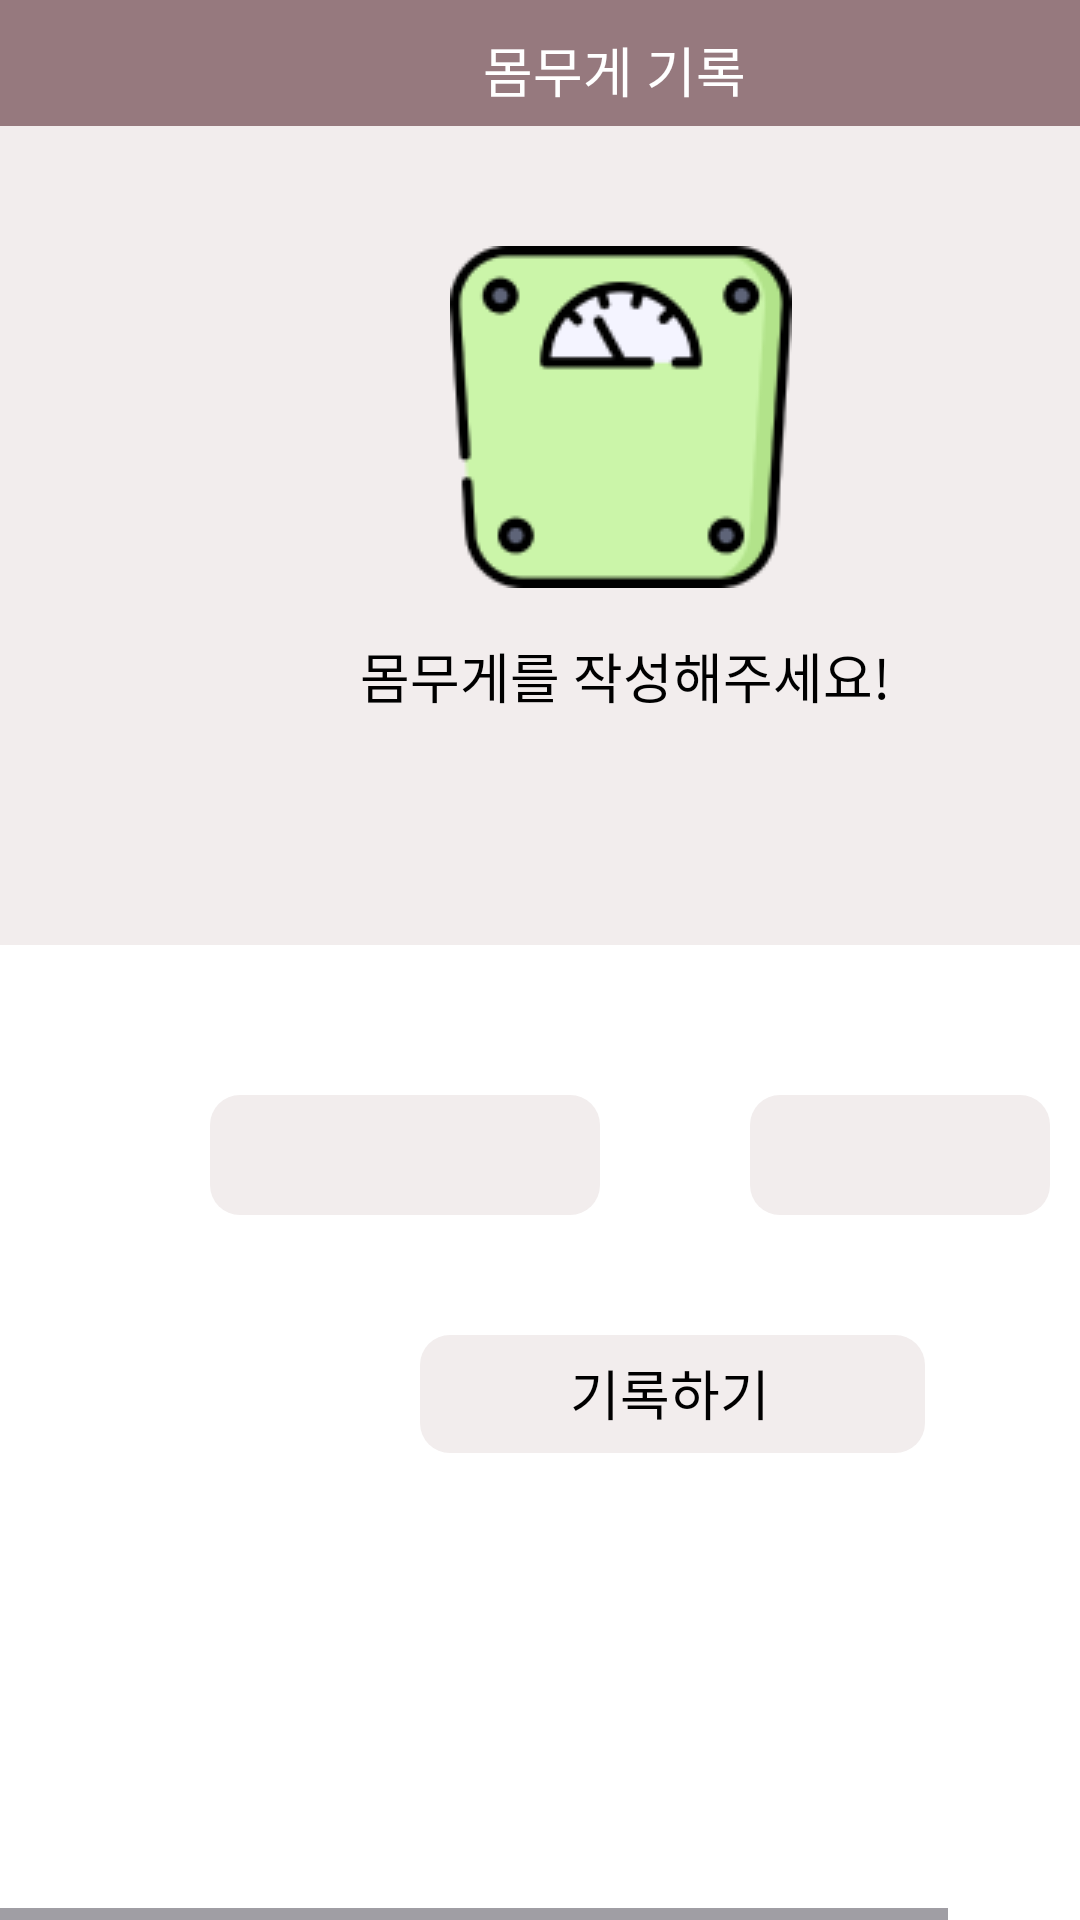

Screen size 1080 x 1920. Icon name, then its center in pixels as (x=x, y=y):
ceck page scale: (x=621, y=417)
